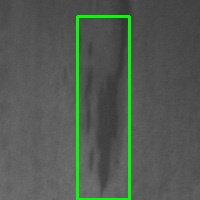inclusion: (77, 16, 129, 199)
